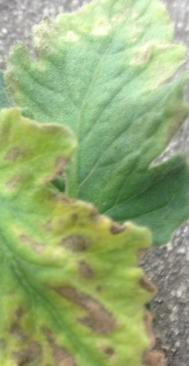Tomato mold leaf: (0, 110, 166, 366)
